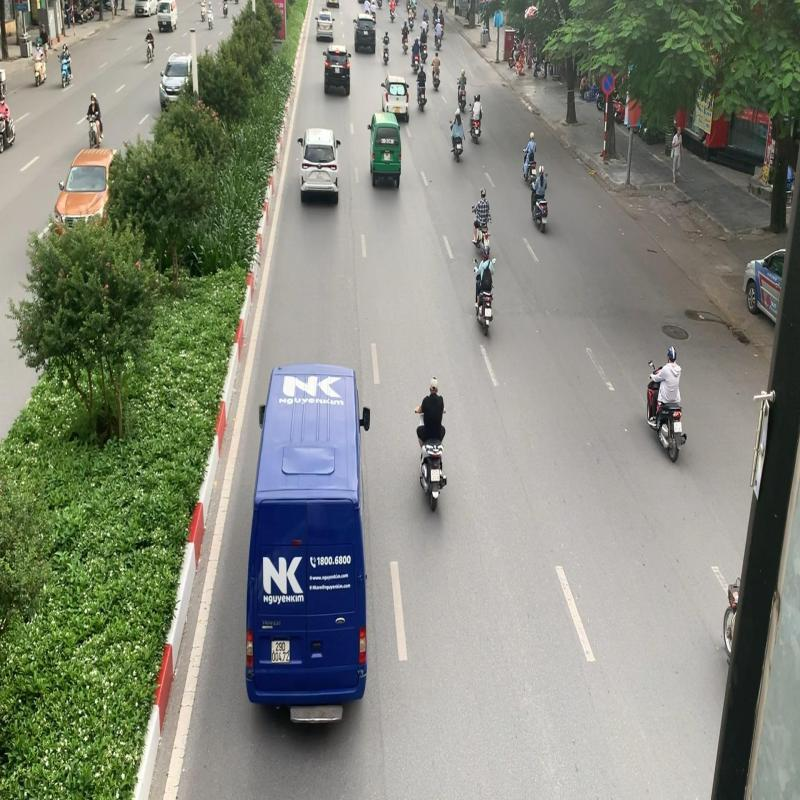helmet: (667, 344, 677, 364), (482, 247, 490, 260)
licenseplate: (430, 468, 440, 482), (674, 422, 682, 432), (485, 307, 491, 317)
motorcyclist: (646, 344, 688, 464), (414, 375, 447, 513), (472, 246, 497, 338)
nohelmet: (430, 376, 438, 394)
